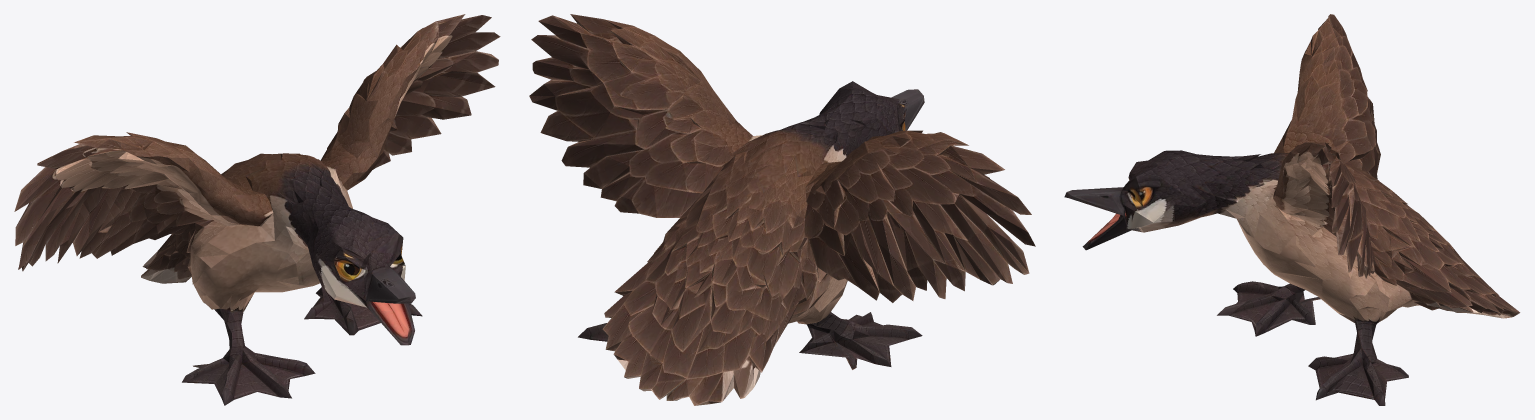
File: goose-bully.glb
3 views of the same model, side by side, from view 1: azimuth 30°, elevation 25°; view 2: azimuth 150°, elevation 25°; view 3: azimuth 270°, elevation 25° (orthographic). The views are drawn at different scales.
Size of the model in its own units: 1.43 by 0.8 by 1.26.
Materials: 1 (1 with a texture image).
